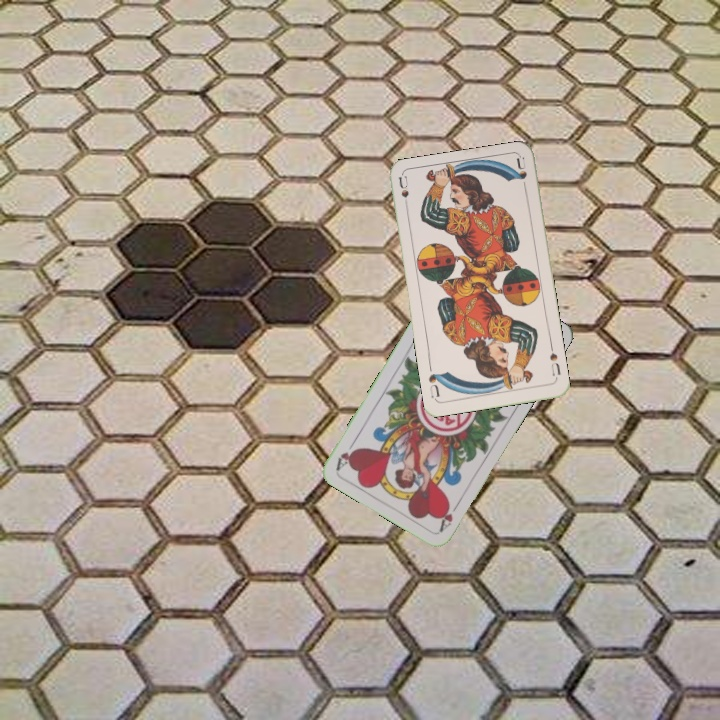HA: (435, 497, 463, 534)
SU: (395, 173, 411, 214), (546, 342, 563, 378)
